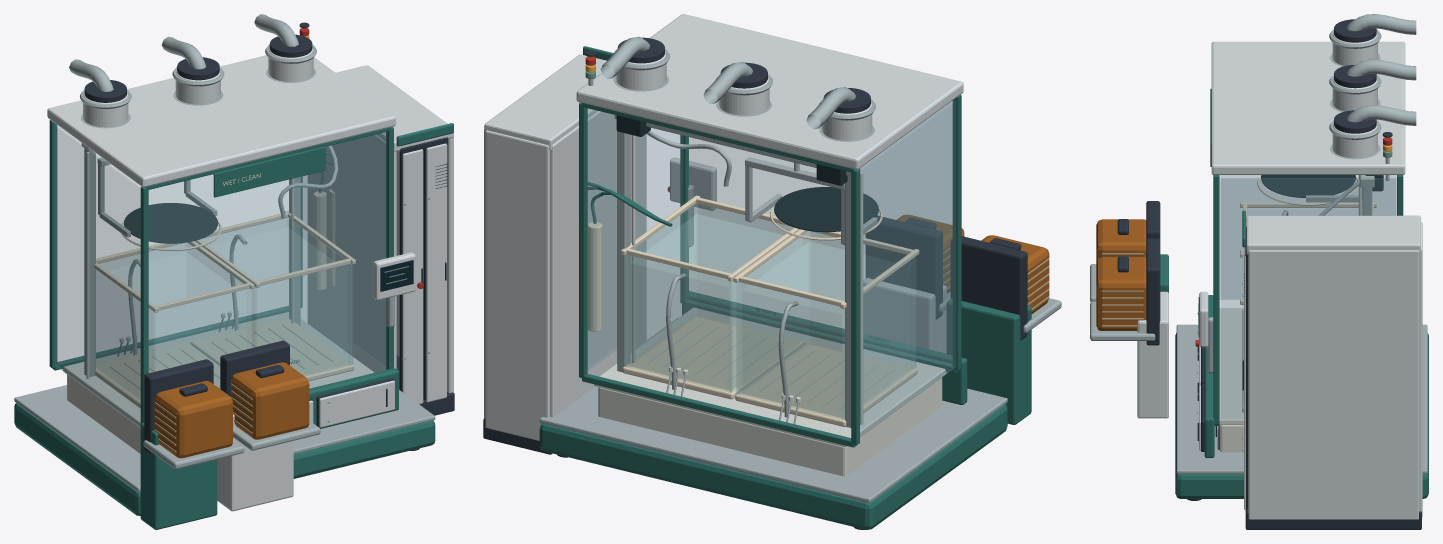
The model's file is equipment-clean.glb.
3 views of the same model, side by side, from view 1: azimuth 30°, elevation 25°; view 2: azimuth 150°, elevation 25°; view 3: azimuth 270°, elevation 25° (orthographic). The views are drawn at different scales.
Parts seen in each view (by area): view 1: Front observation window, Bay filtered canopy, Side observation window, Side service skin, Side observation window.001, Bath front inspection.003, Raised deck edge, Segmented service plinth, Bath front inspection.001, Removable service door.004, Independent load port base, Removable service door.003 (+51 smaller); view 2: Side observation window, Bay filtered canopy, Front observation window, Rear utility enclosure, Side service skin, Segmented service plinth, Raised deck edge, Side observation window.001, Bath front inspection, Bath front inspection.002, Liquid illustration.001, Precision cabinet (+42 smaller); view 3: Side service skin.001, Bay filtered canopy, Side observation window.001, Filtered ceiling, Raised deck edge, Side observation window, Amber wafer transport pod.001, Independent load port base.001, Satin service deck, Segmented service plinth, Equipment plinth, Carrier wafer (+22 smaller).
Part boxes in pixels (x1,y1,x2,y2): Front observation window: (149,132,386,388); Bay filtered canopy: (47,55,395,187); Side observation window: (54,125,140,427); Side service skin: (308,135,396,372); Side observation window.001: (301,132,385,367); Bath front inspection.003: (258,265,348,375); Raised deck edge: (14,385,435,491); Segmented service plinth: (14,403,435,515); Bath front inspection.001: (157,289,247,387); Removable service door.004: (426,143,446,402); Independent load port base: (140,422,217,529); Removable service door.003: (402,149,423,404); Side observation window: (860,100,955,437); Bay filtered canopy: (576,14,963,169); Front observation window: (688,101,952,364); Rear utility enclosure: (485,130,549,440); Side service skin: (550,111,646,417); Segmented service plinth: (539,404,1007,529); Raised deck edge: (539,318,1007,503); Side observation window.001: (588,108,683,370); Bath front inspection: (738,282,844,419); Bath front inspection.002: (626,255,731,392); Liquid illustration.001: (630,214,783,365); Precision cabinet: (598,377,942,476); Side service skin.001: (1248,250,1419,519); Bay filtered canopy: (1211,41,1405,174); Side observation window.001: (1220,178,1396,420); Filtered ceiling: (1246,215,1420,254); Raised deck edge: (1176,324,1427,474); Side observation window: (1220,175,1396,299); Amber wafer transport pod.001: (1096,257,1146,330); Independent load port base.001: (1137,291,1168,418); Satin service deck: (1219,308,1243,424); Segmented service plinth: (1175,333,1428,498); Equipment plinth: (1245,508,1421,529); Carrier wafer: (1261,175,1355,197).
Size of the model in its own units: 6.56 by 6.51 by 5.35.
